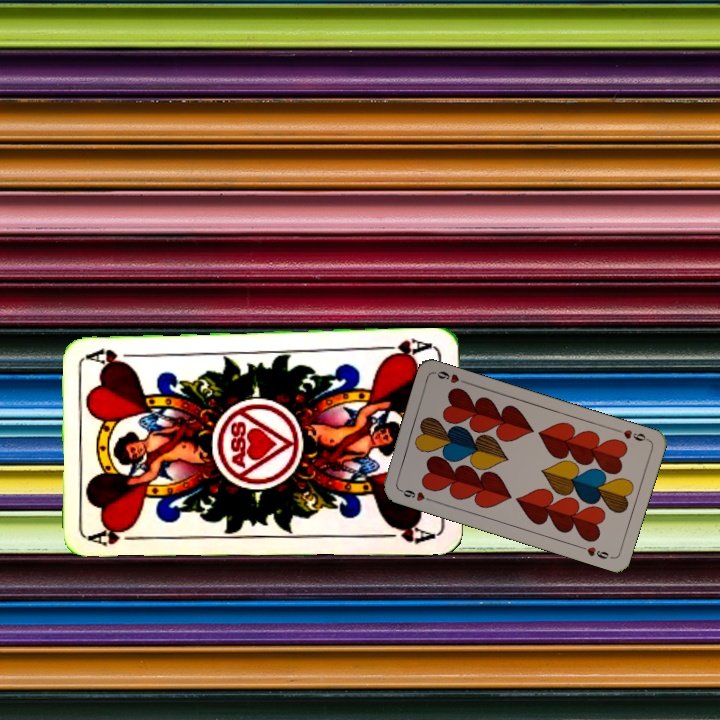H9: (395, 485, 435, 504), (612, 425, 651, 444)
HA: (376, 335, 435, 362), (87, 522, 146, 549)
